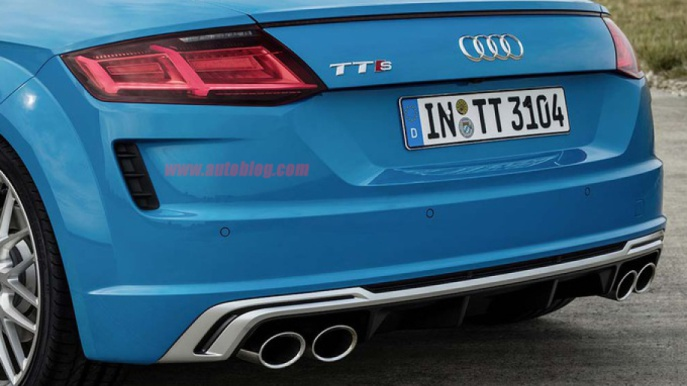audi: (450, 27, 535, 68)
